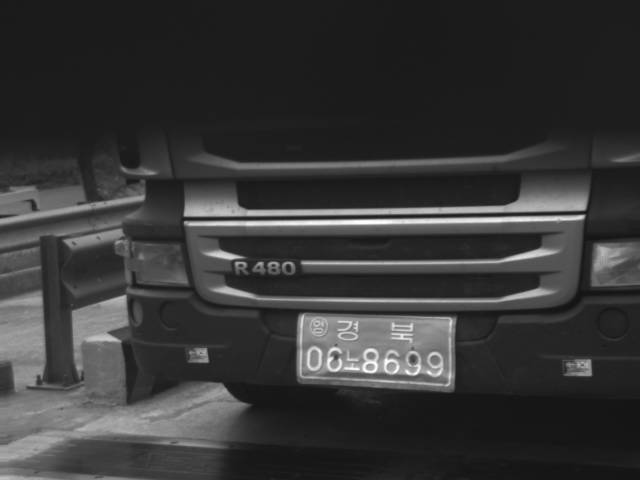car: (107, 40, 639, 412)
plate: (295, 311, 455, 388)
